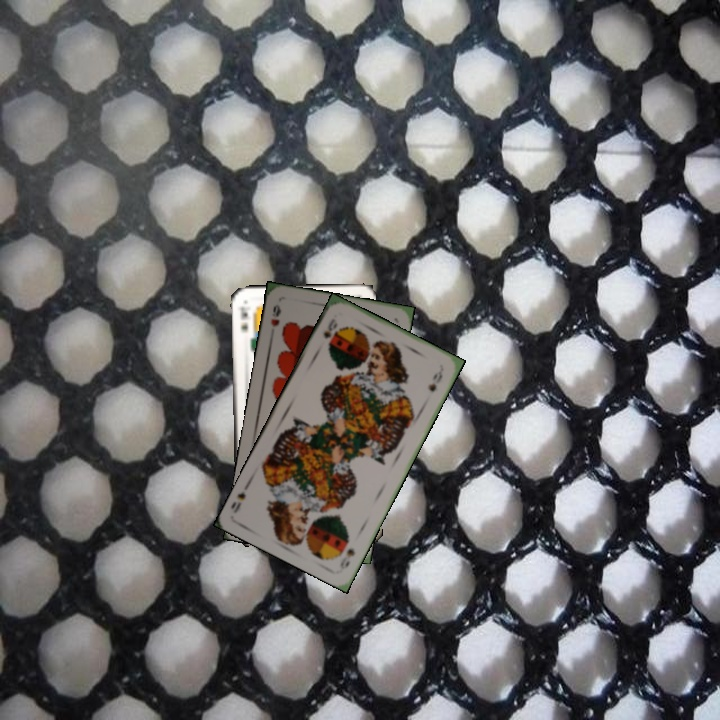EK: (235, 305, 251, 335)
H9: (267, 301, 284, 329)
SO: (319, 314, 340, 348), (336, 544, 358, 572)
